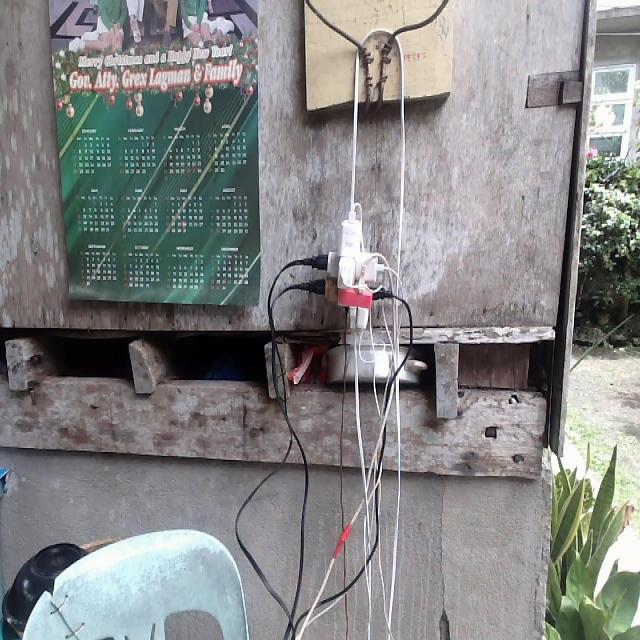-: (293, 191, 433, 341)
